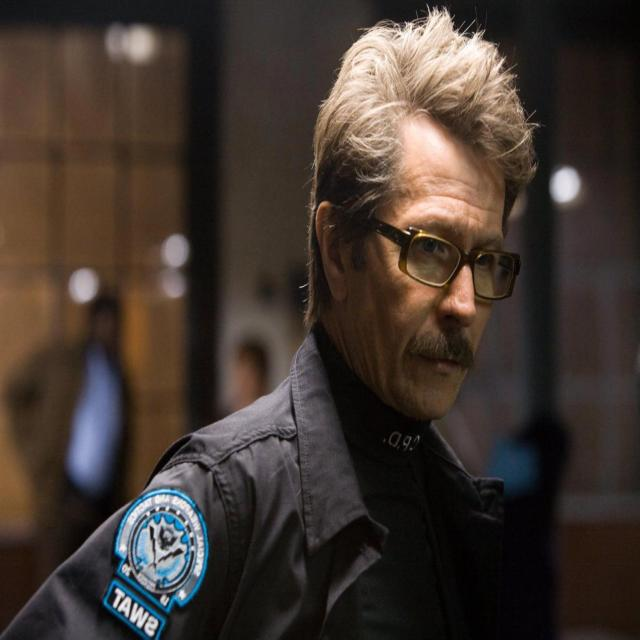no-earmuff: (314, 198, 348, 302)
